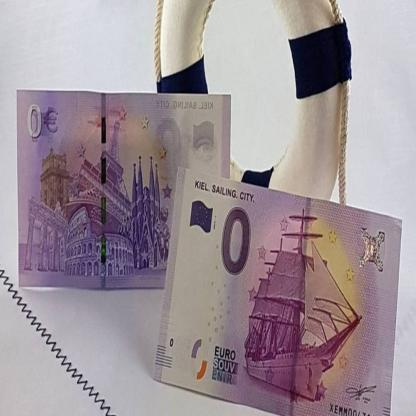billete: (150, 166, 404, 415), (14, 88, 232, 293)
